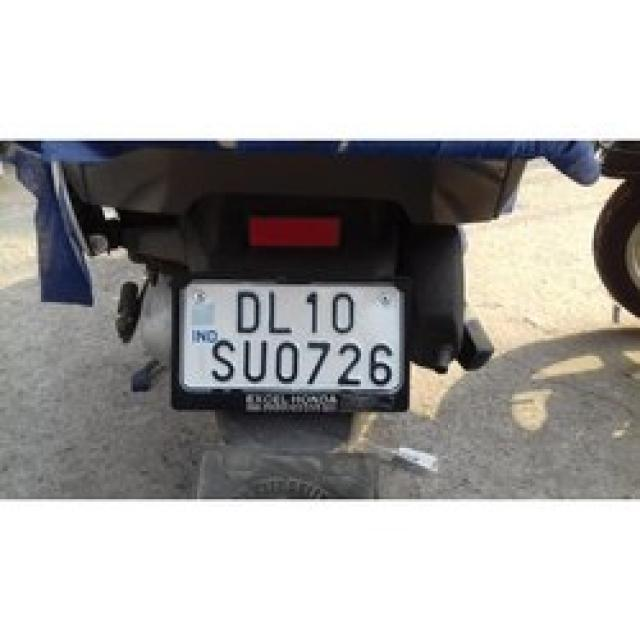license_plate: (172, 272, 410, 409)
